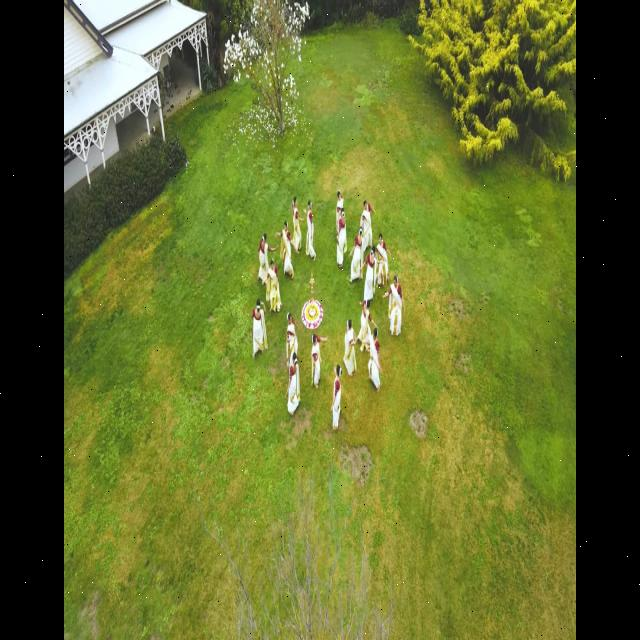humans: (381, 269, 404, 339), (280, 348, 302, 421), (363, 322, 384, 395), (248, 294, 265, 364), (308, 330, 326, 392), (331, 362, 346, 436), (302, 192, 317, 266), (331, 205, 348, 269), (264, 255, 282, 313), (276, 216, 292, 278), (351, 224, 366, 282), (345, 313, 358, 378), (255, 228, 273, 274), (291, 194, 302, 258), (360, 190, 372, 247), (362, 243, 378, 285), (284, 311, 297, 351), (376, 226, 386, 269), (334, 183, 345, 212)
